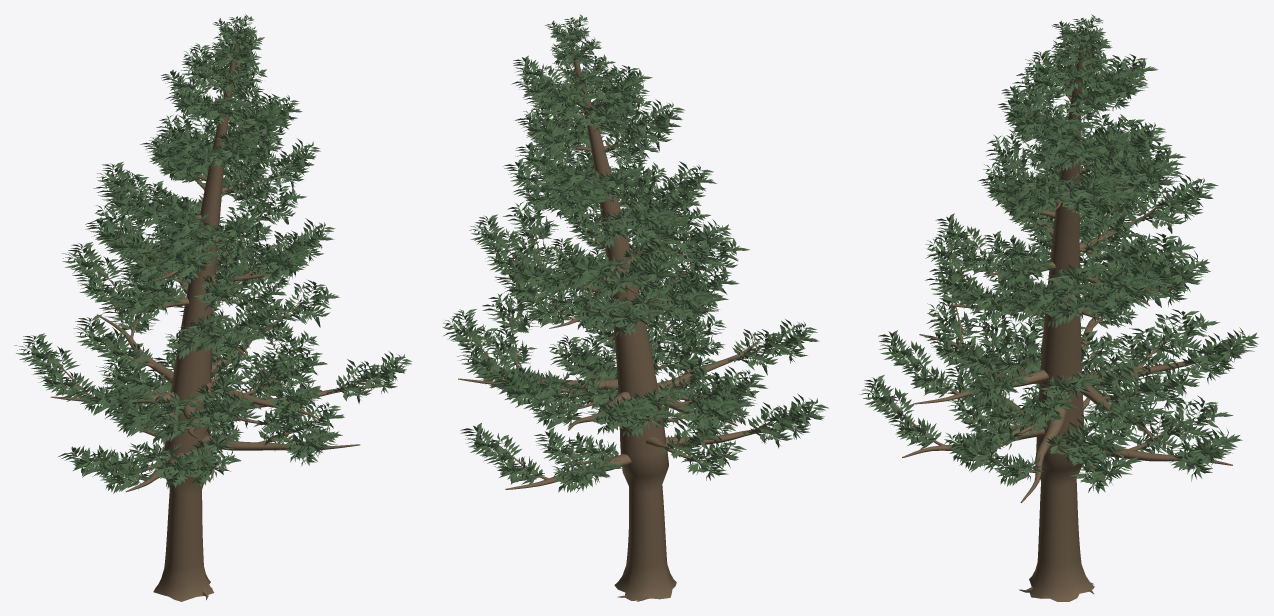
Rendered from corealm_pine_2.glb.
The picture shows the model from 3 angles, left to right: view 1: azimuth 30°, elevation 25°; view 2: azimuth 150°, elevation 25°; view 3: azimuth 270°, elevation 25°; orthographic projection. The views are drawn at different scales.
Visible parts, largest first — view 1: corealm_pine_2; view 2: corealm_pine_2; view 3: corealm_pine_2.
Boxes of the visible parts, x1,y1,x2,y2 form: corealm_pine_2: [14, 14, 411, 601]; corealm_pine_2: [442, 14, 828, 601]; corealm_pine_2: [859, 14, 1258, 601].
Bounding box in the file's own units: 6.38 × 9.73 × 5.89.
